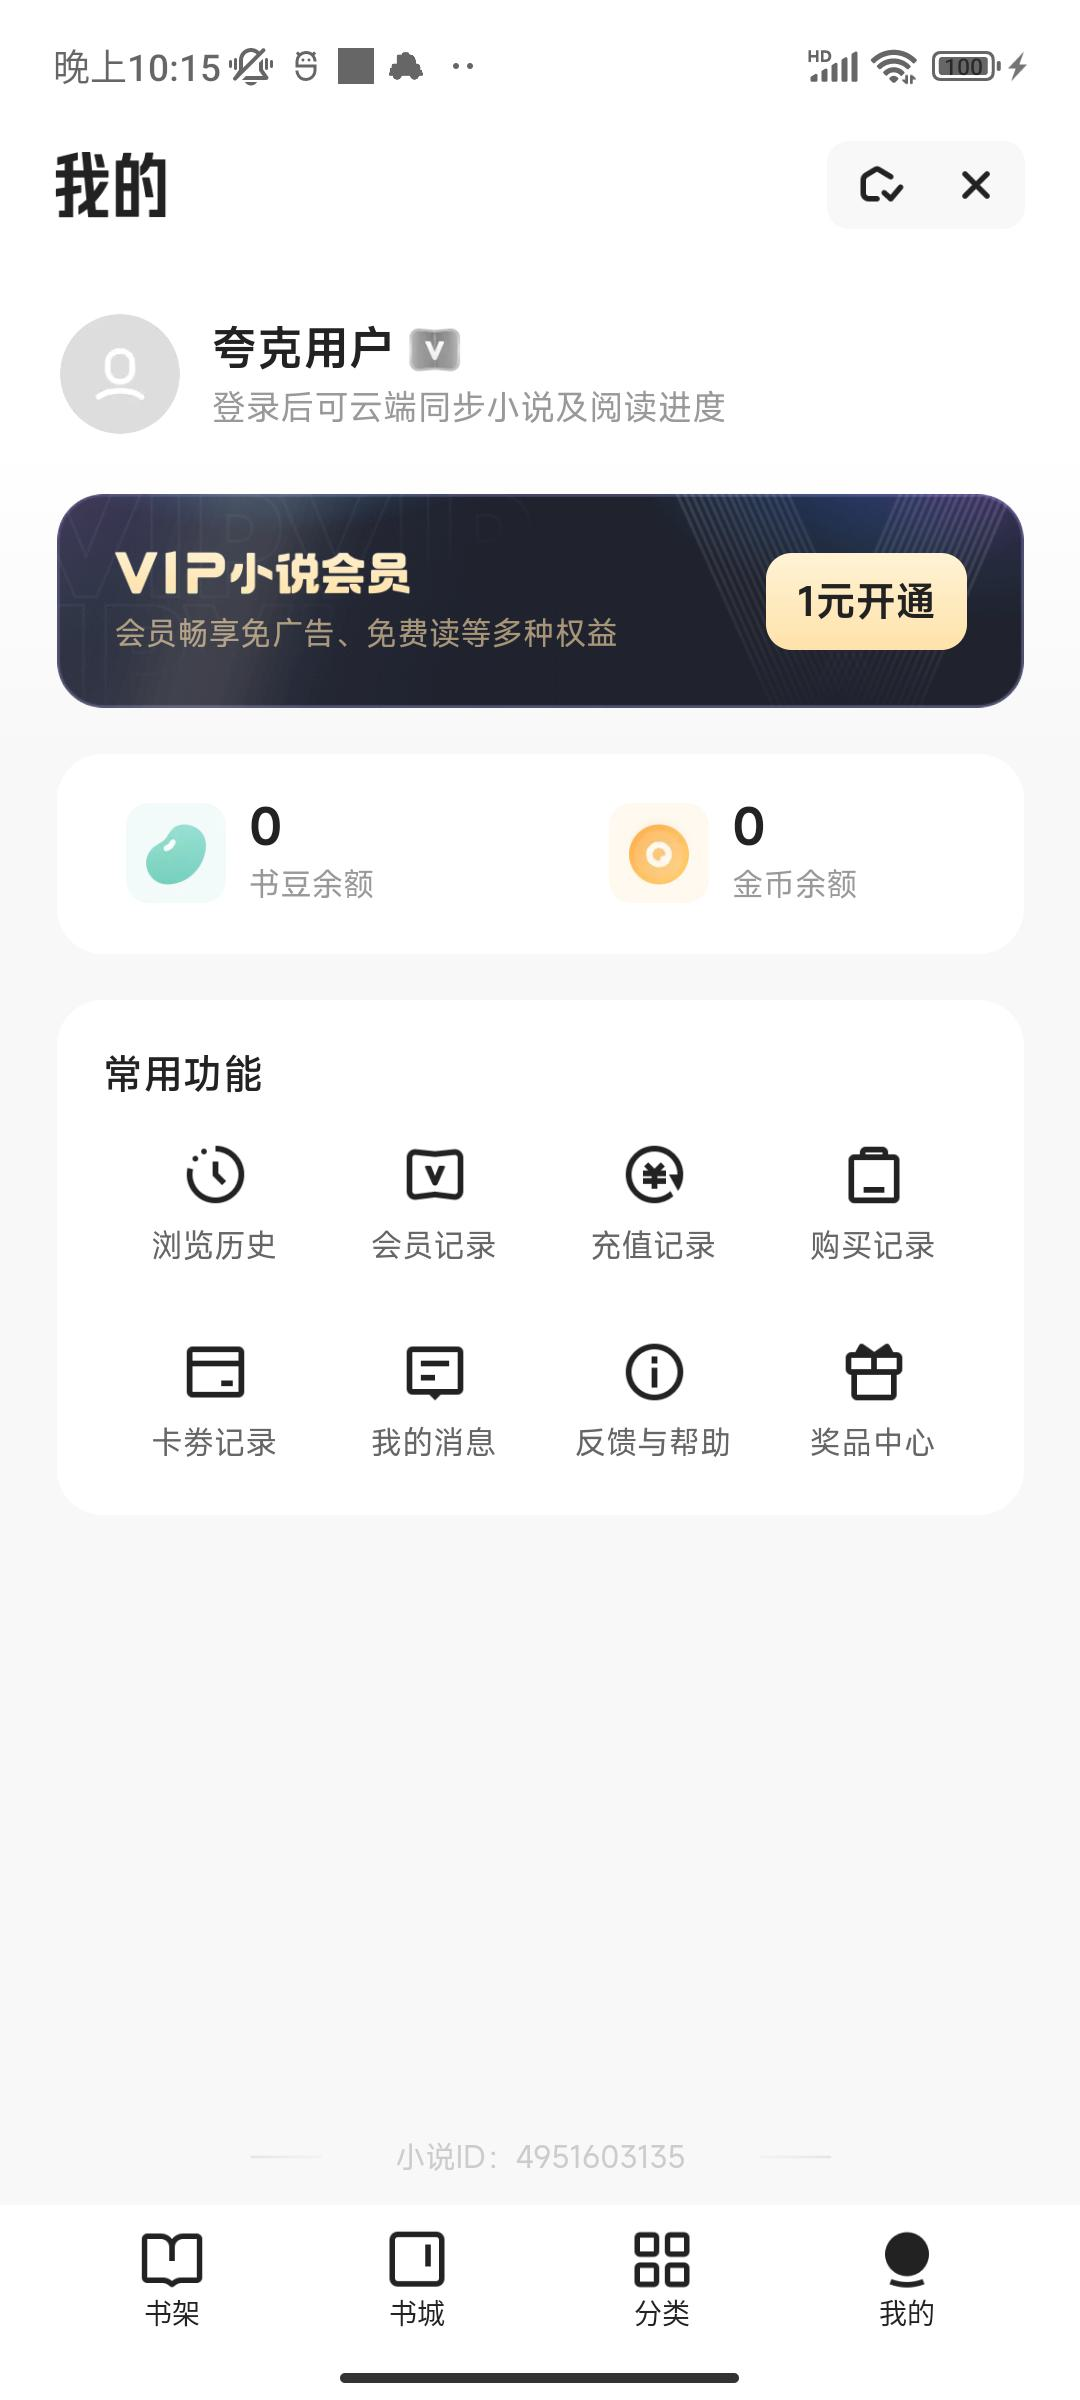ui_group: (67, 1004, 1030, 1524), (43, 497, 1033, 716), (61, 761, 1026, 954), (37, 291, 809, 461)
